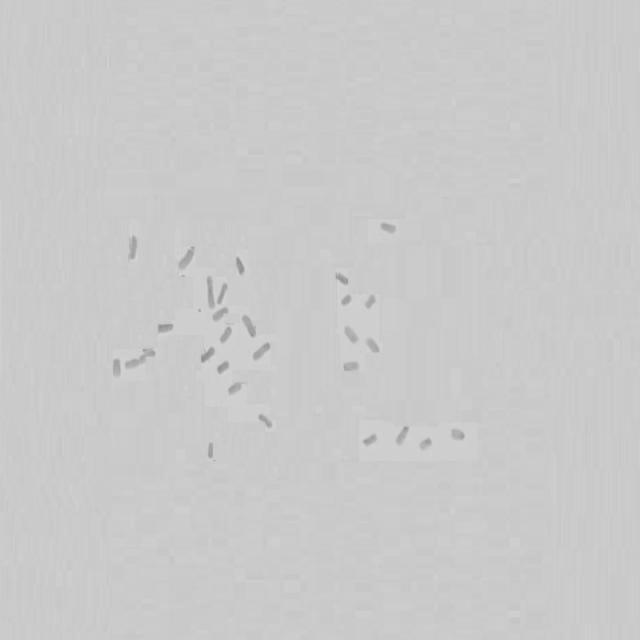E-coli: (238, 309, 259, 341), (330, 266, 354, 292), (374, 216, 400, 240), (178, 244, 198, 274), (448, 423, 468, 448), (204, 273, 216, 313), (123, 353, 145, 373), (225, 380, 245, 402), (254, 409, 273, 432), (343, 323, 361, 347), (343, 356, 362, 378), (127, 231, 139, 265), (251, 344, 273, 362), (394, 424, 410, 448), (363, 427, 379, 449), (367, 334, 383, 356), (417, 437, 436, 455), (365, 288, 379, 312), (235, 252, 247, 277), (111, 357, 124, 380), (204, 439, 217, 462), (156, 322, 177, 336), (216, 359, 232, 377), (199, 346, 214, 364), (220, 323, 232, 345), (219, 283, 230, 306), (212, 307, 228, 322), (145, 344, 159, 360), (340, 292, 354, 308)
